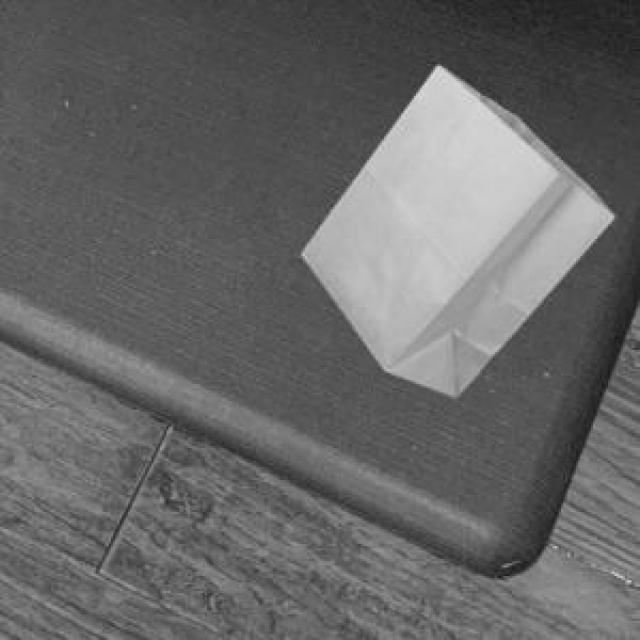paper: (299, 62, 610, 393)
